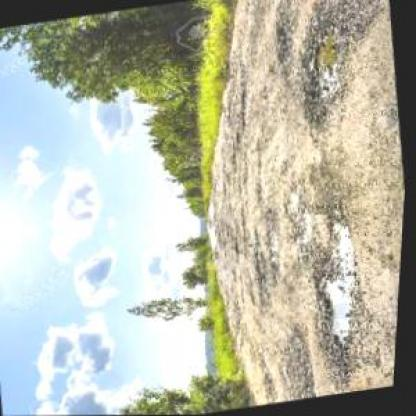pothole: (298, 206, 377, 374), (286, 4, 363, 125), (266, 11, 302, 67)
